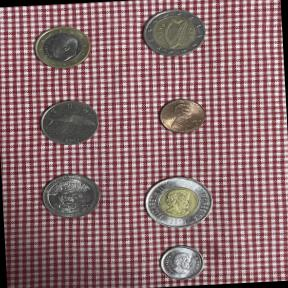coin: (137, 169, 223, 233), (30, 90, 106, 152), (136, 6, 213, 65), (28, 18, 102, 79), (34, 166, 110, 225), (153, 94, 210, 138), (154, 240, 210, 283)
